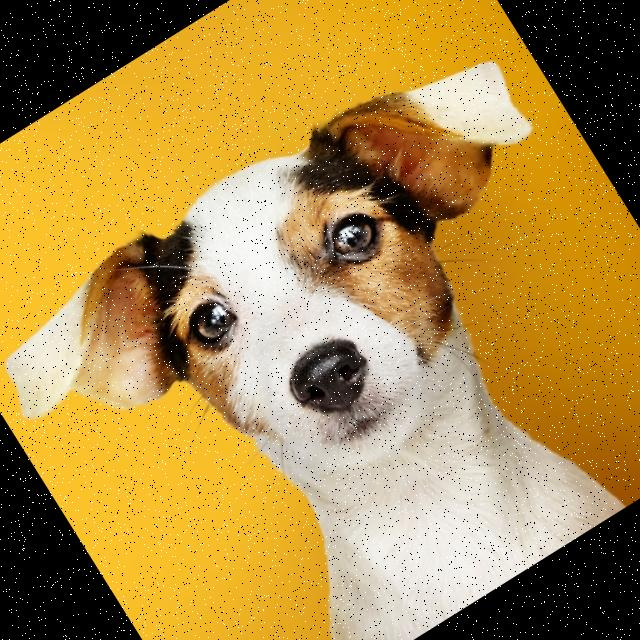Dog: (0, 23, 640, 640)
